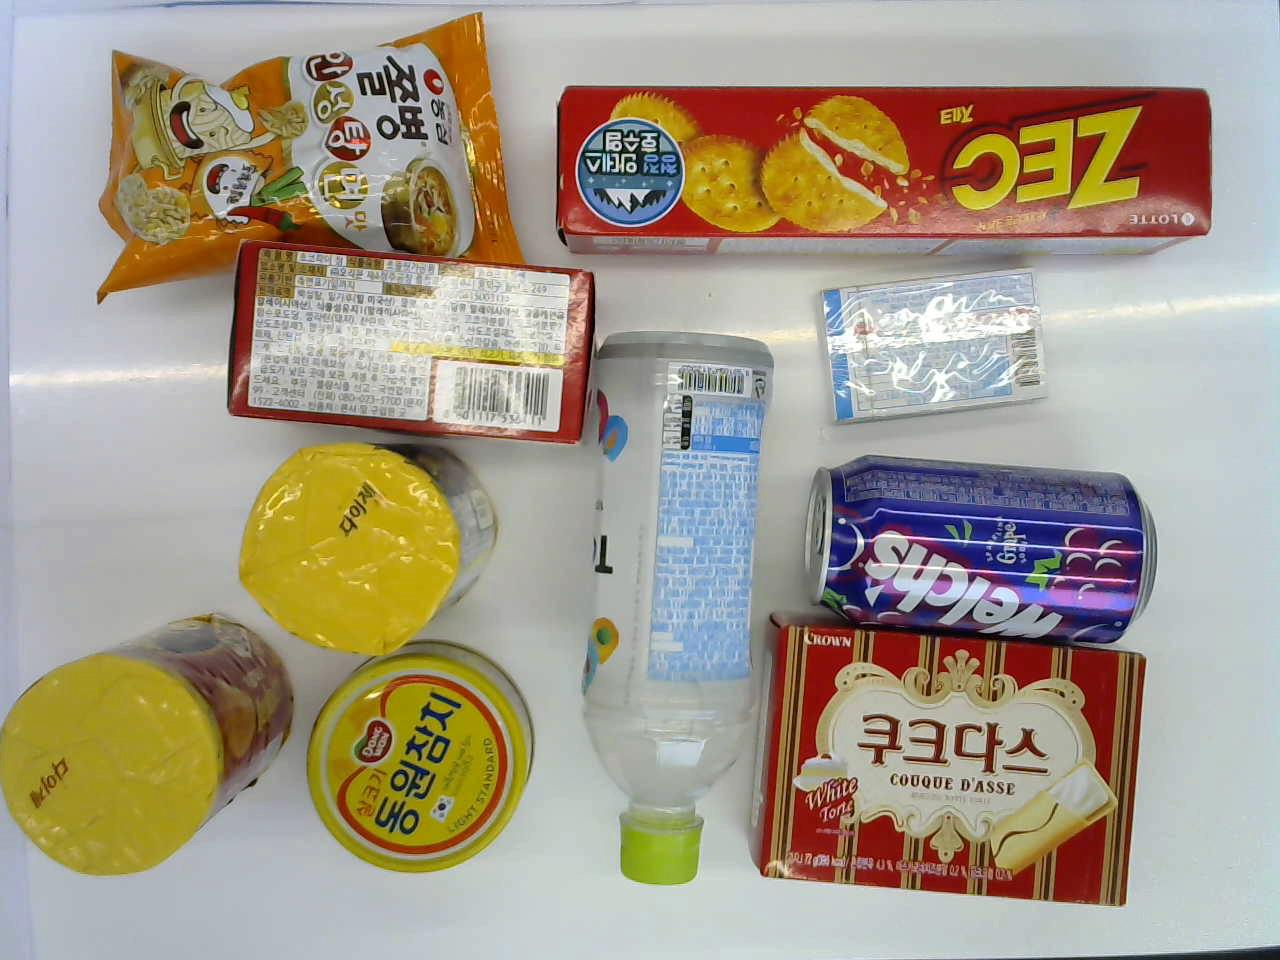ID_gum: (809, 251, 1055, 434)
chocopie: (230, 245, 592, 450)
couque_white: (763, 612, 1148, 914)
diget_choco: (238, 437, 496, 657)
diget_ori: (3, 602, 289, 883)
jjolbyung_noodle: (87, 35, 516, 278)
toreta: (589, 324, 752, 896)
tuna: (305, 638, 535, 879)
welchs: (802, 460, 1160, 640)
zec: (548, 85, 1215, 265)
